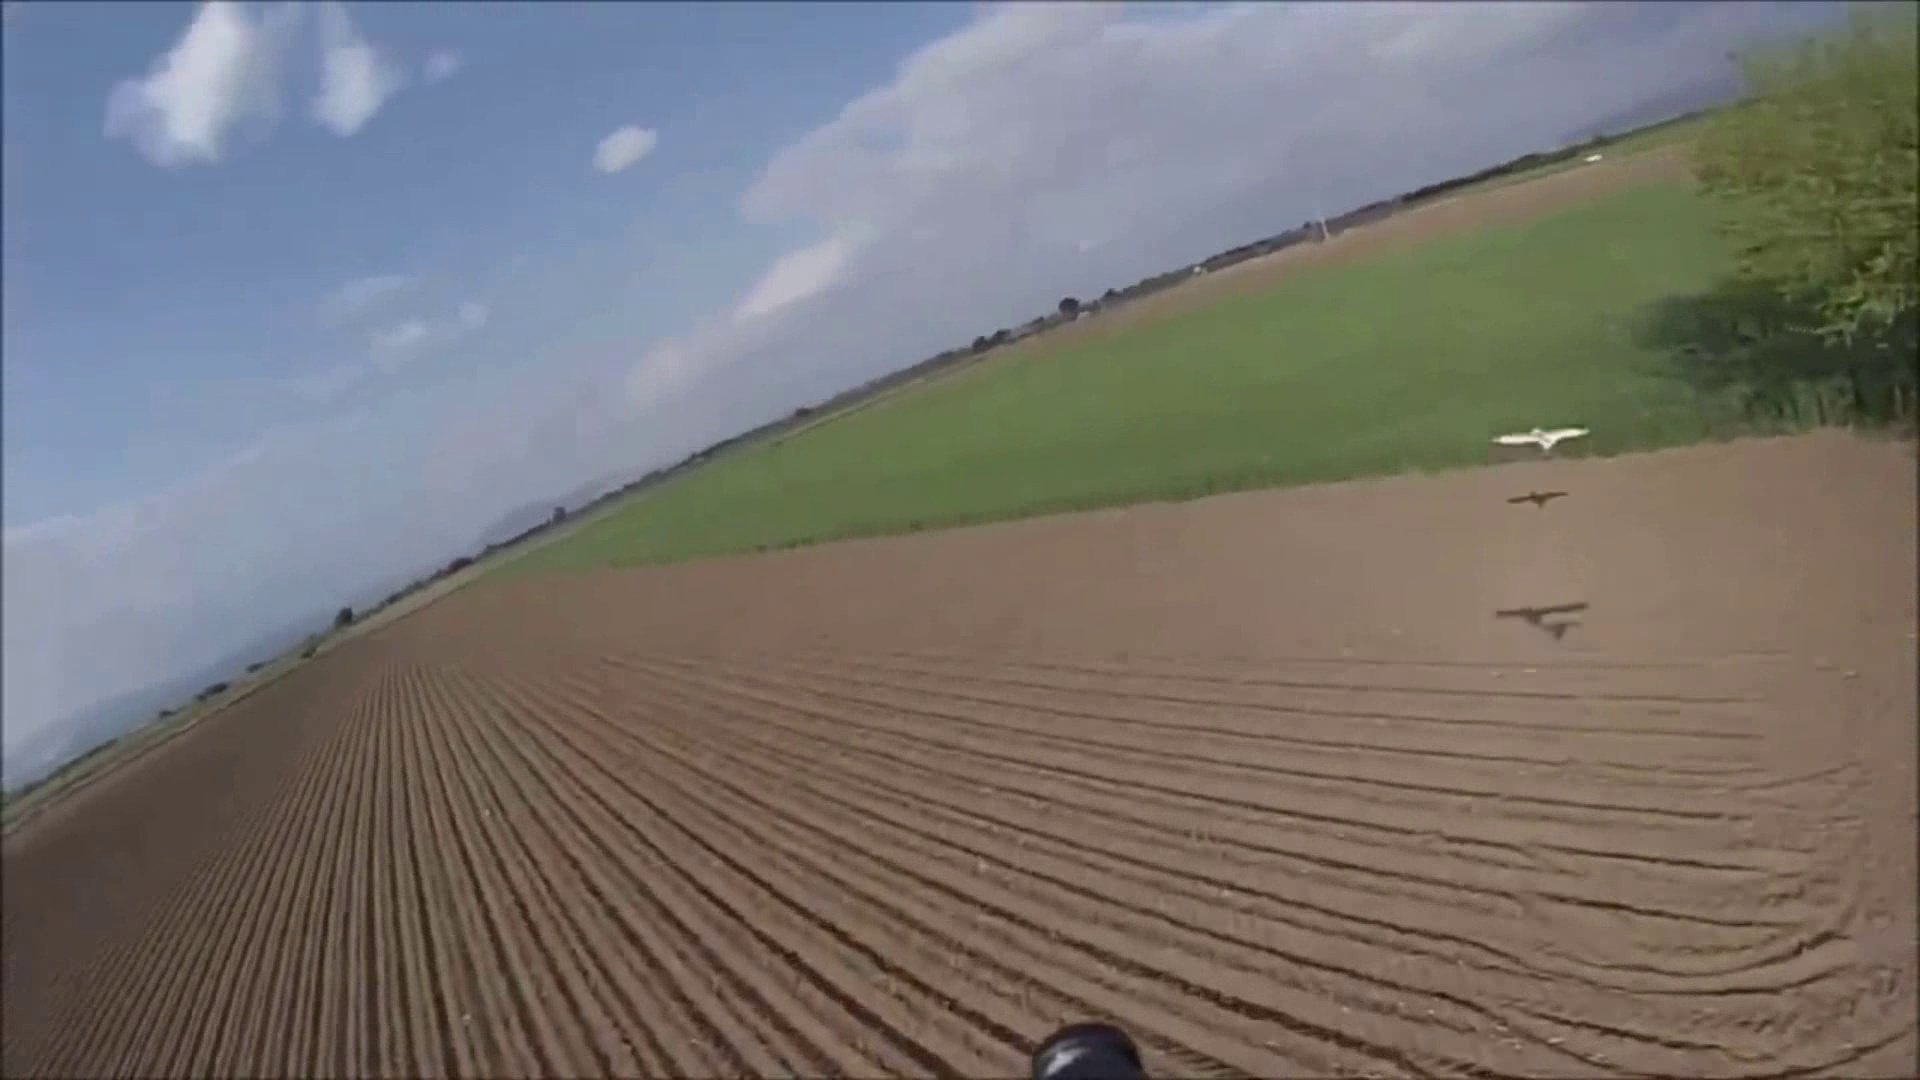airplane: (1493, 599, 1588, 637), (1490, 425, 1590, 459)
